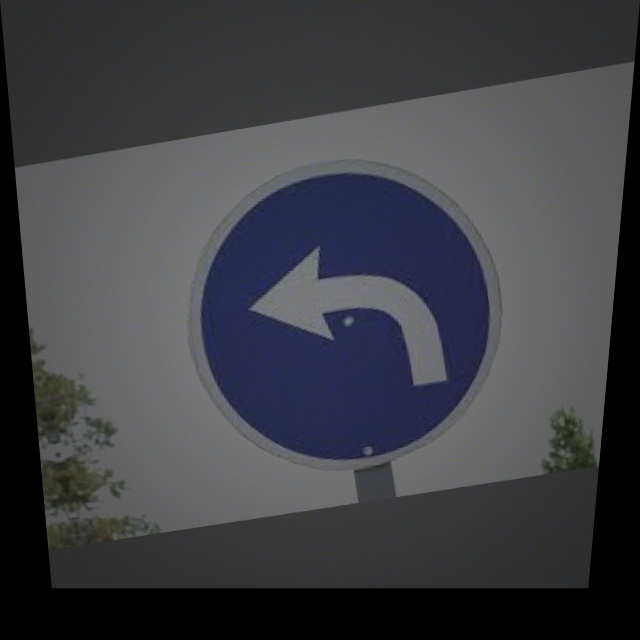Compulsory_Turn_Left_Ahead: (160, 131, 532, 487)
